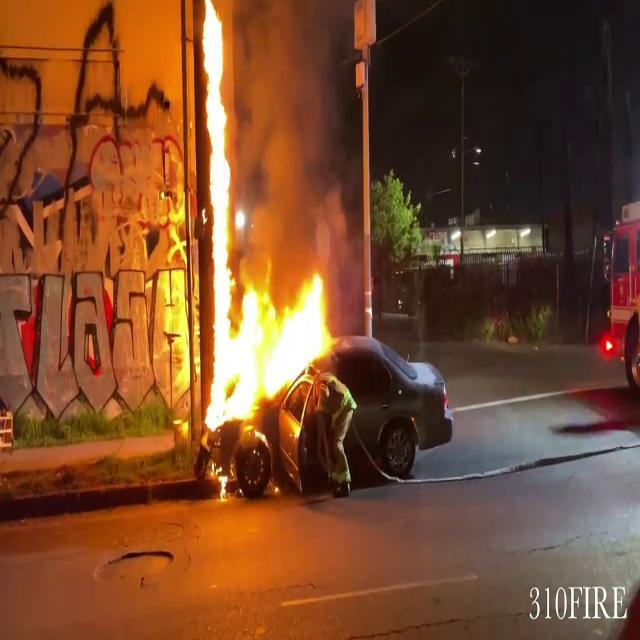Fire: (205, 259, 338, 429), (198, 0, 239, 429)
Smoke: (232, 0, 358, 264), (608, 0, 640, 208)
